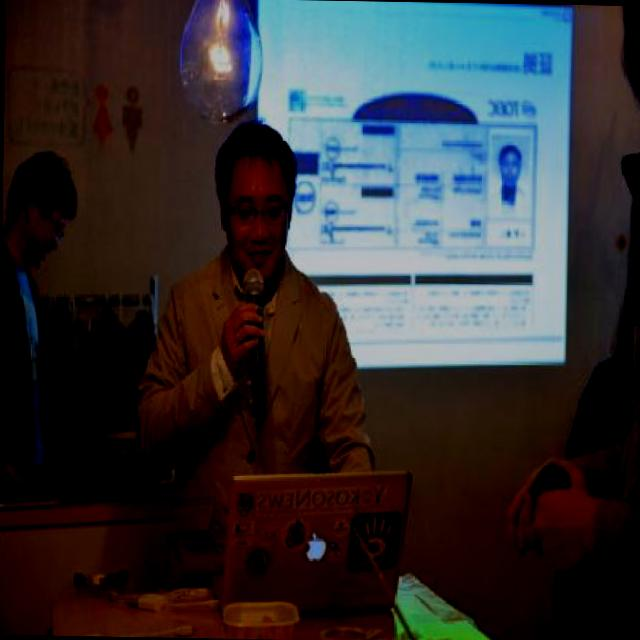Person: (128, 117, 382, 598), (502, 3, 640, 640), (0, 148, 113, 482), (494, 145, 529, 213)
